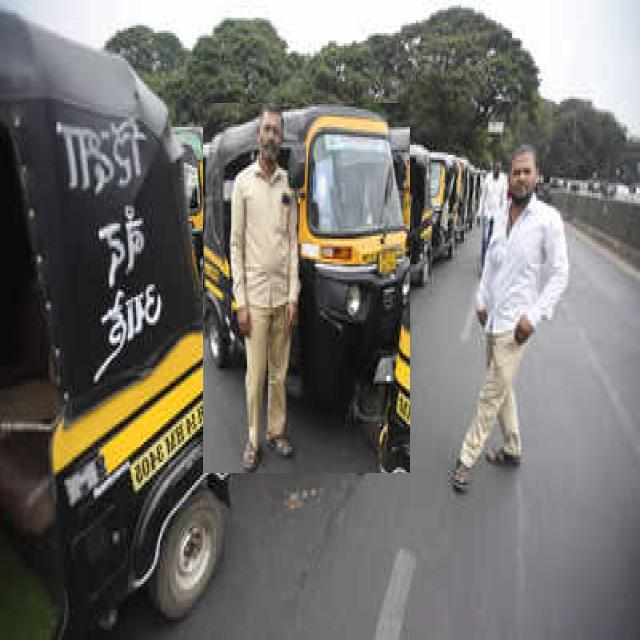autorickshaw: (0, 12, 231, 636), (203, 103, 409, 473)
